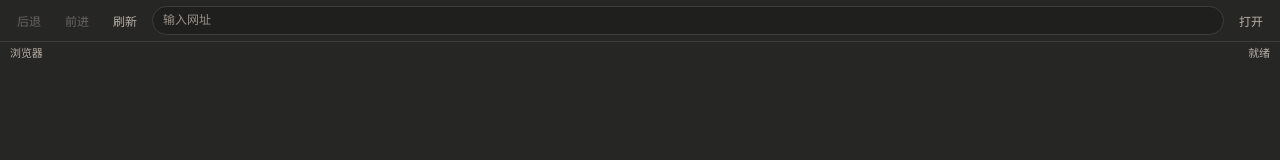
it: BrowserPanel › handles method exceptions and rejected navigation promises with safe messages
The width and height of the screenshot is (1280, 160).
Click the button "刷新": (125, 21) [104, 8, 146, 33]
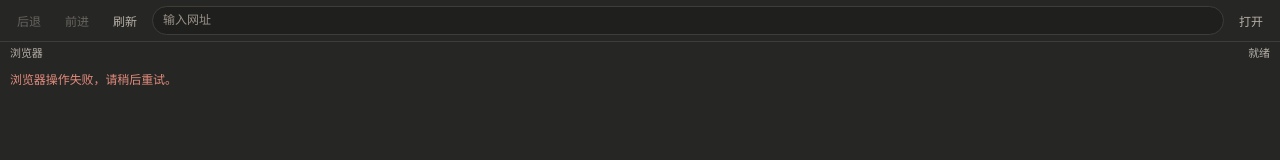
Now the message "浏览器操作失败，请稍后重试。" is shown, box [10, 73, 177, 87]
In the field named "网页地址": (688, 21) [152, 6, 1224, 35], type "https://example.com/"
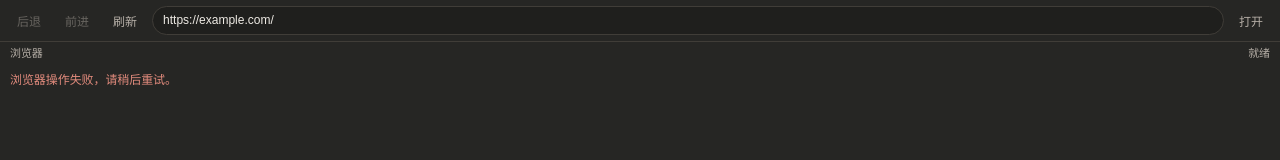
Submit the form named "网页地址", box [152, 6, 1272, 35]
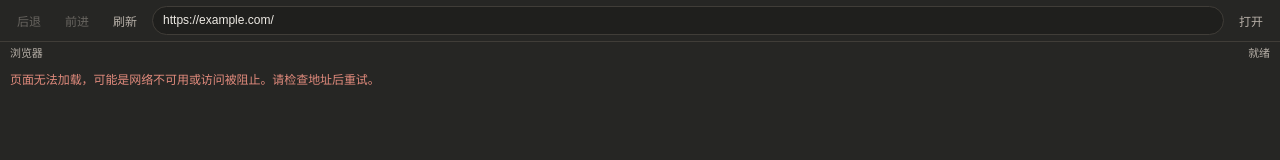
Expected: the message "页面无法加载，可能是网络不可用或访问被阻止。请检查地址后重试。" does not show "secret", [10, 73, 380, 87]
Now the message "页面无法加载，可能是网络不可用或访问被阻止。请检查地址后重试。" is shown, box [10, 73, 380, 87]
